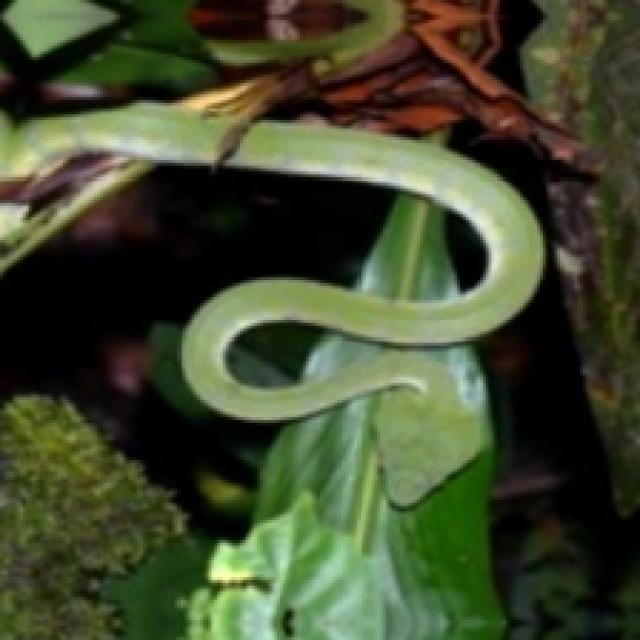north ph temple pitviper: (1, 104, 541, 506)
